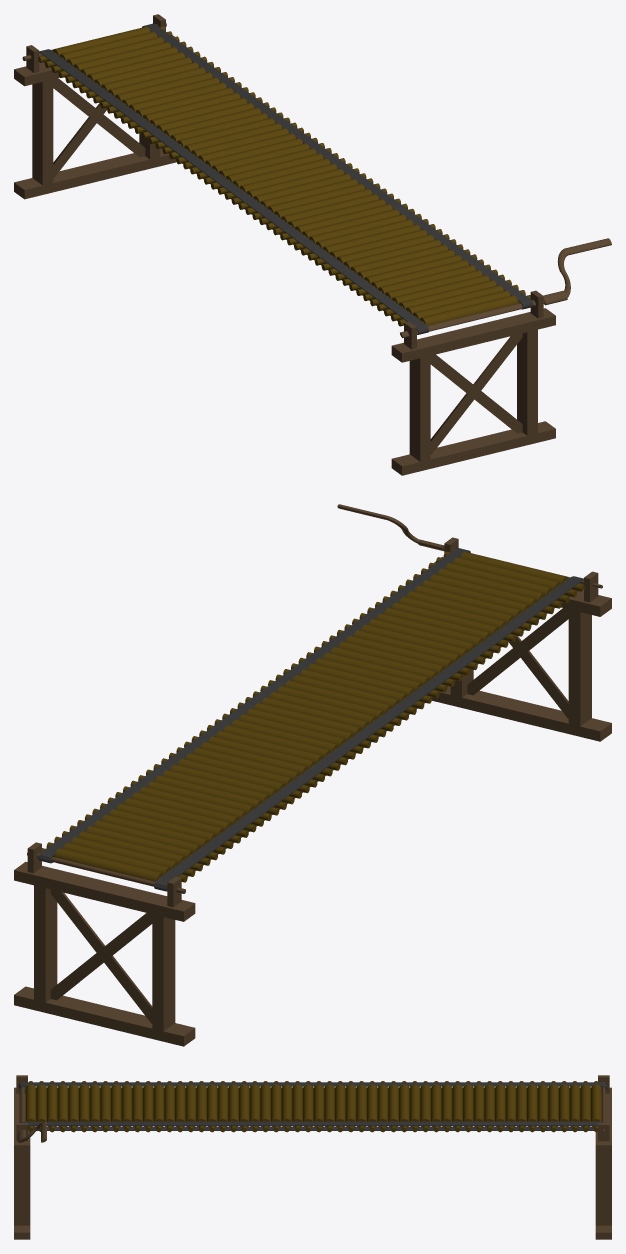
The model's file is Systeme_Manivelle.fbx.
3 renders of one model, top to bottom at view 1: azimuth 30°, elevation 25°; view 2: azimuth 150°, elevation 25°; view 3: azimuth 270°, elevation 25°, orthographic. The views are drawn at different scales.
Parts seen in each view (by area): view 1: Cylinder.002, Cylinder, Cylinder.001, Cube.001, Cube.002, Cylinder.003; view 2: Cylinder.002, Cylinder.001, Cylinder, Cube.001, Cube.002, Cylinder.003; view 3: Cylinder.002, Cube.002, Cylinder.001, Cube.001, Cylinder, Cylinder.003.
Boxes of the visible parts, bbox=[...] form: Cylinder.002: bbox=[38, 26, 530, 326]; Cylinder: bbox=[391, 290, 555, 475]; Cylinder.001: bbox=[14, 14, 176, 199]; Cube.001: bbox=[39, 49, 428, 334]; Cube.002: bbox=[142, 23, 533, 309]; Cylinder.003: bbox=[400, 238, 611, 337]; Cylinder.002: bbox=[41, 551, 584, 884]; Cylinder.001: bbox=[14, 842, 195, 1046]; Cylinder: bbox=[432, 537, 611, 741]; Cube.001: bbox=[154, 576, 583, 891]; Cube.002: bbox=[38, 548, 470, 863]; Cylinder.003: bbox=[337, 504, 602, 588]; Cylinder.002: bbox=[25, 1081, 601, 1132]; Cube.002: bbox=[20, 1121, 605, 1130]; Cylinder.001: bbox=[595, 1075, 611, 1239]; Cube.001: bbox=[19, 1082, 606, 1091]; Cylinder: bbox=[14, 1075, 30, 1239]; Cylinder.003: bbox=[18, 1082, 47, 1143].
Size of the model in its own units: 387 by 272 by 1143.
